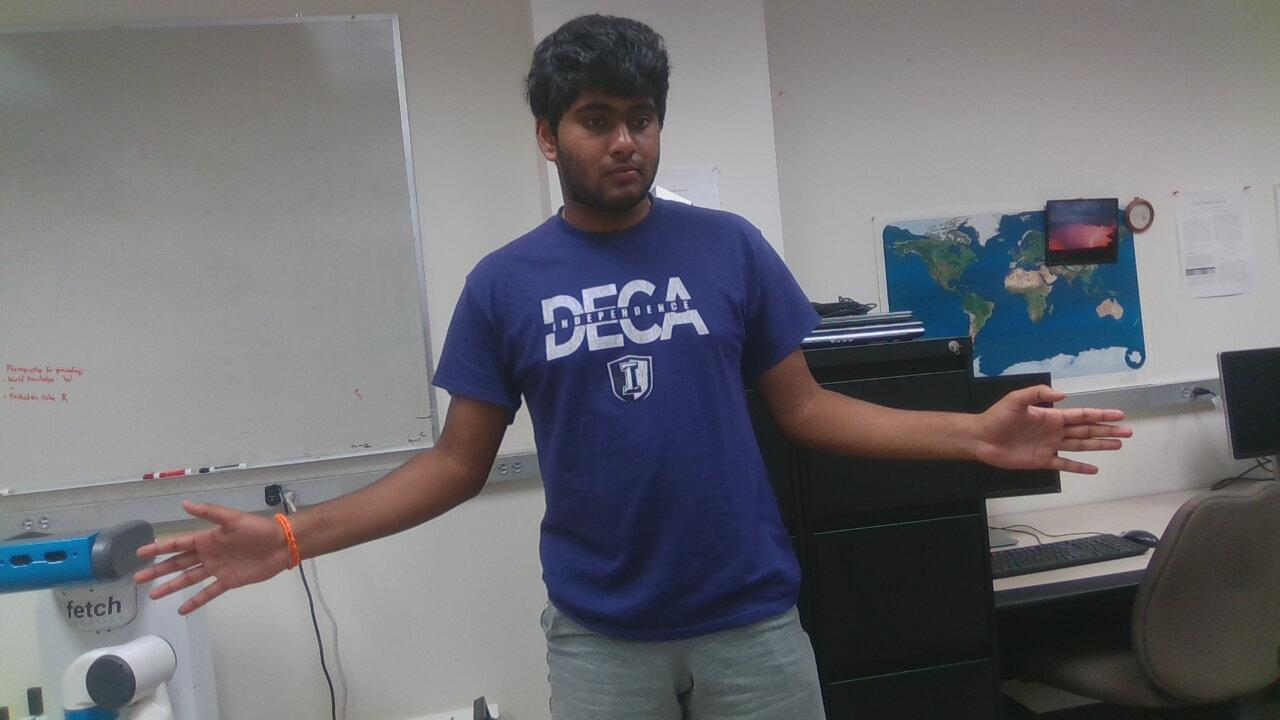hands: (136, 494, 307, 618), (961, 379, 1145, 494)
